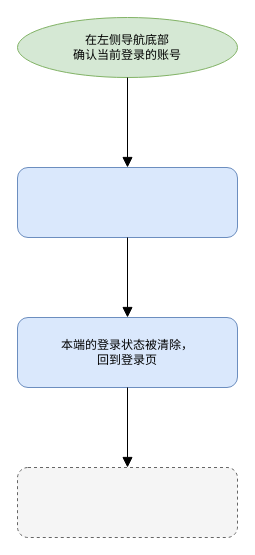
The diagram is 255 pixels wide and 555 high, and some of its shapes have lost their labels. The shapes that lost their labels are listed below. From the top down, each one's centre as x and y in pixels, then its label:
point (127, 202): 点「退出登录」
point (127, 502): 候选人端若也登录着， 互不影响
